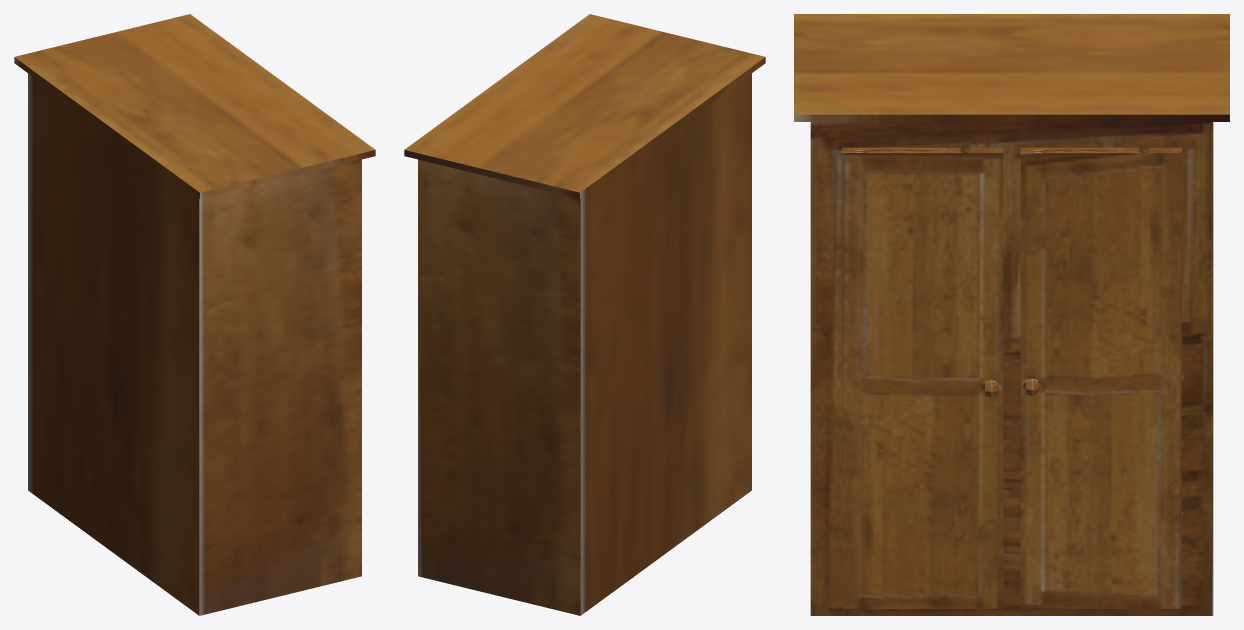
The model's file is armioire.fbx.
3 renders of one model, left to right at view 1: azimuth 30°, elevation 25°; view 2: azimuth 150°, elevation 25°; view 3: azimuth 270°, elevation 25°, orthographic. The views are drawn at different scales.
Visible parts, largest first — view 1: Cube; view 2: Cube; view 3: Cube, Cube.001, Cube.002.
Boxes of the visible parts, x1,y1,x2,y2 form: Cube: (14, 14, 375, 615); Cube: (404, 14, 765, 615); Cube: (794, 14, 1229, 615); Cube.001: (842, 147, 1003, 608); Cube.002: (1020, 147, 1181, 608).
Size of the model in its own units: 168 by 361 by 283.
